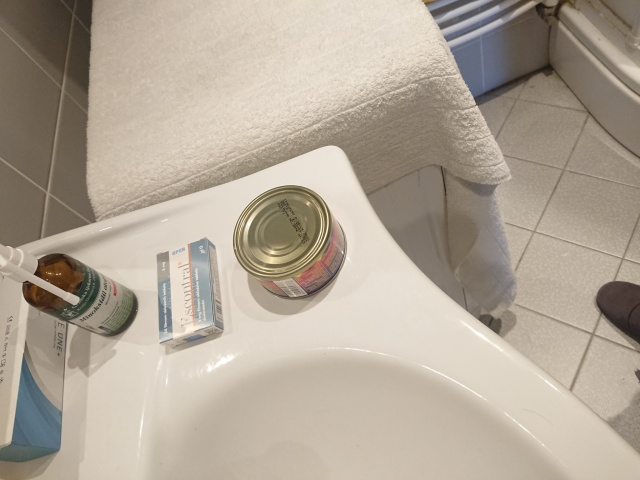Giana Tuna Salad Mexico 185g: (231, 183, 349, 303)
